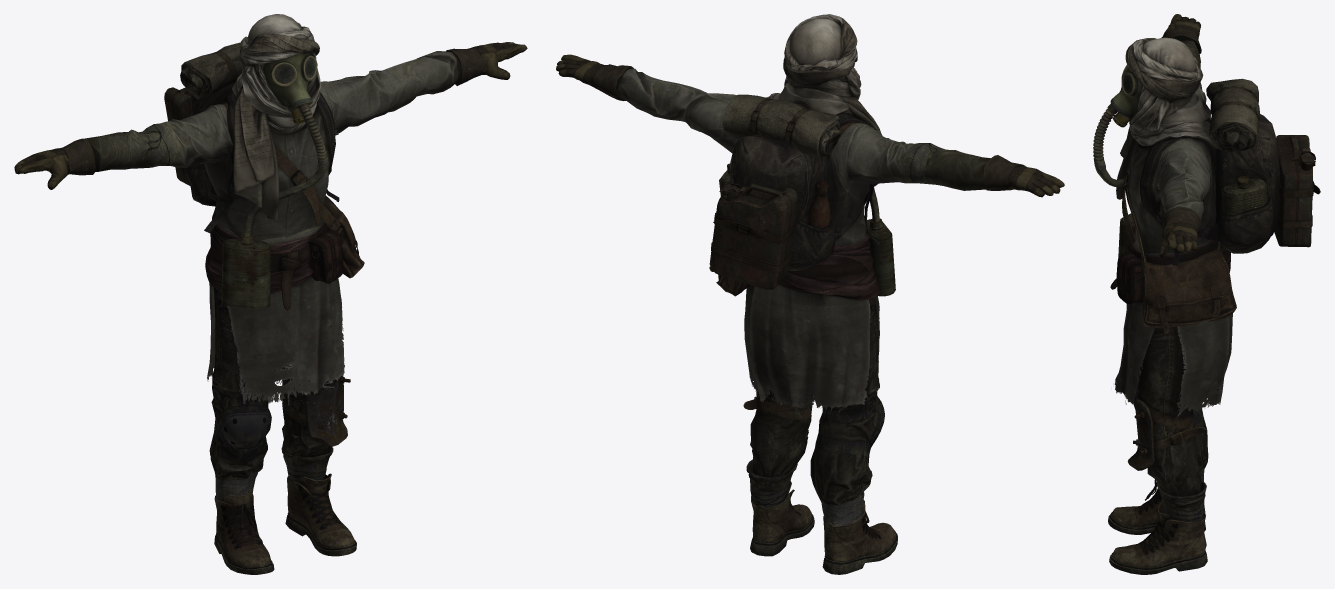
File: Nomad3.fbx
3 views of the same model, side by side, from view 1: azimuth 30°, elevation 25°; view 2: azimuth 150°, elevation 25°; view 3: azimuth 270°, elevation 25° (orthographic). The views are drawn at different scales.
Visible parts, largest first — view 1: NomadBody; view 2: NomadBody; view 3: NomadBody.
Boxes of the visible parts, x1,y1,x2,y2 form: NomadBody: (14, 14, 527, 574); NomadBody: (556, 14, 1064, 574); NomadBody: (1093, 14, 1320, 574).
Bounding box in the file's own units: 207 × 208 × 84.54.
